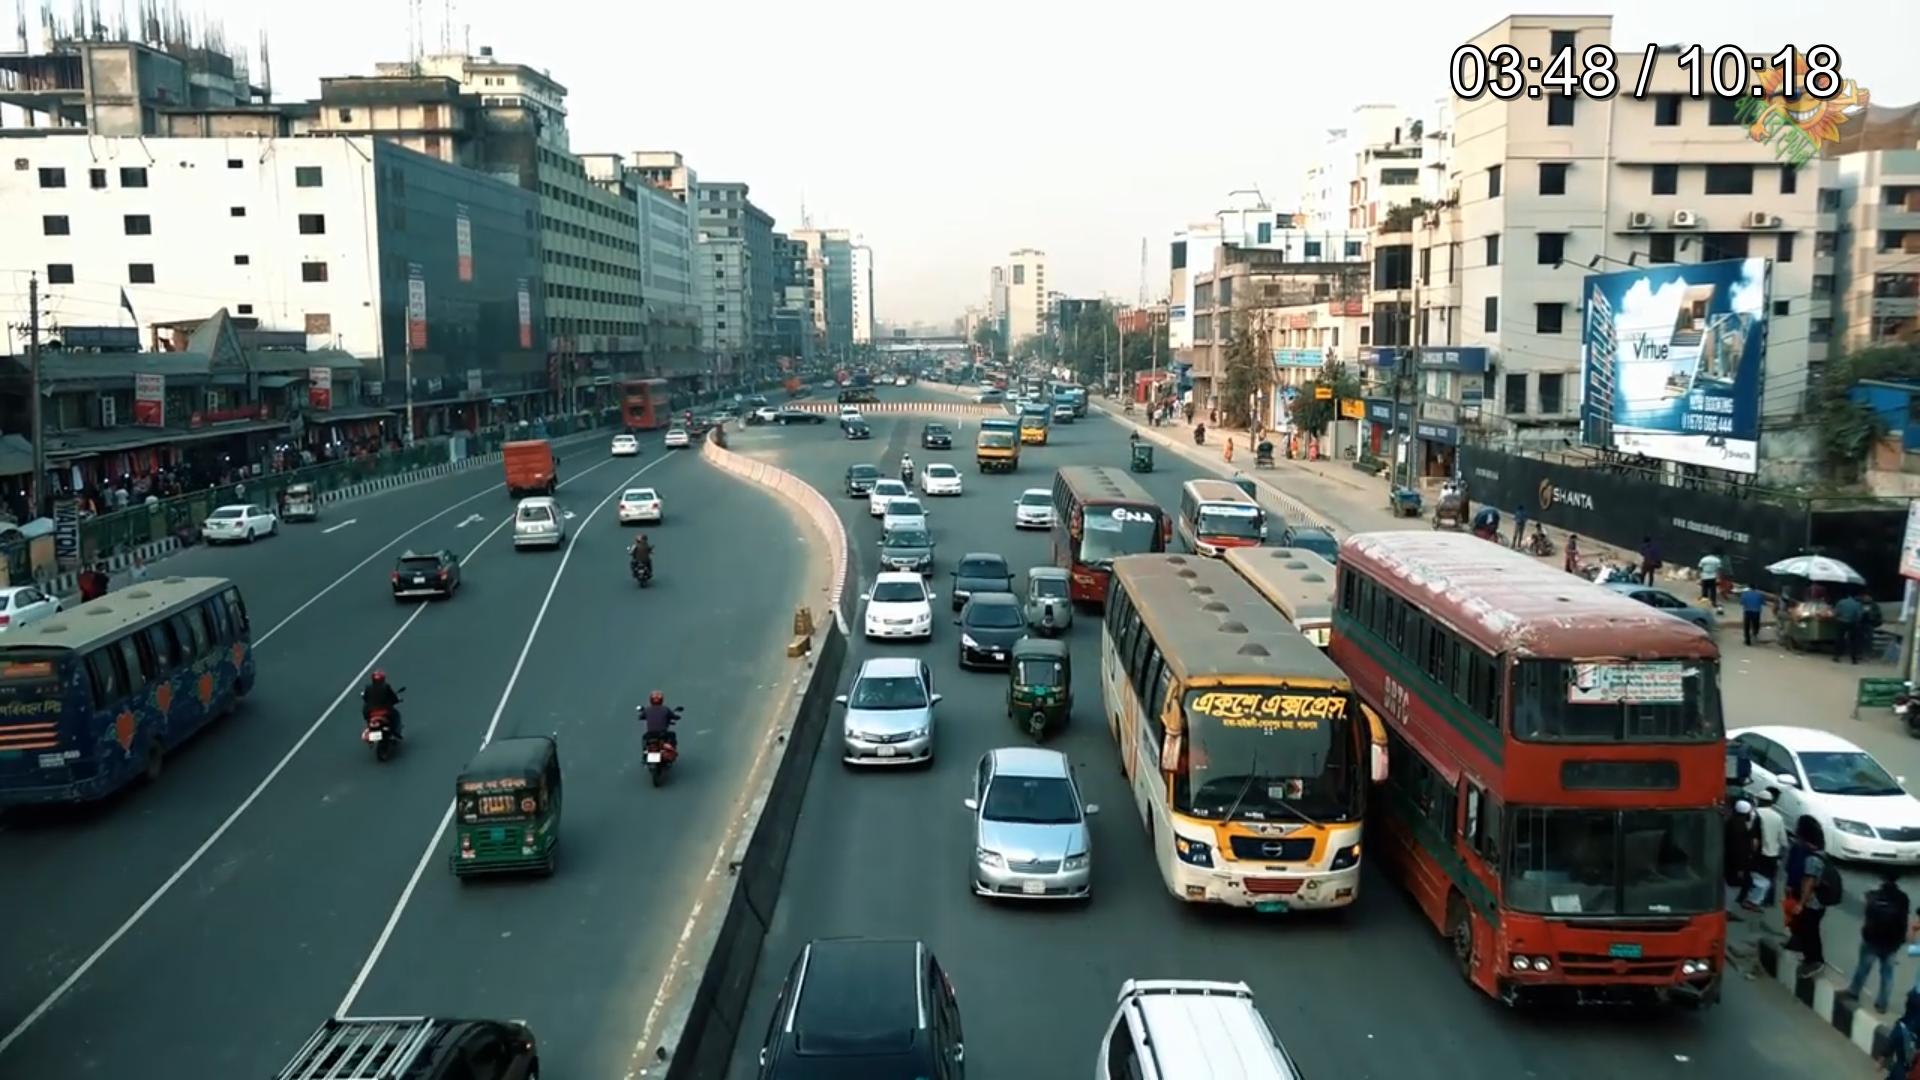MotorCycle: (1129, 574, 1383, 934), (632, 688, 683, 795), (357, 671, 411, 771), (624, 533, 658, 591)
